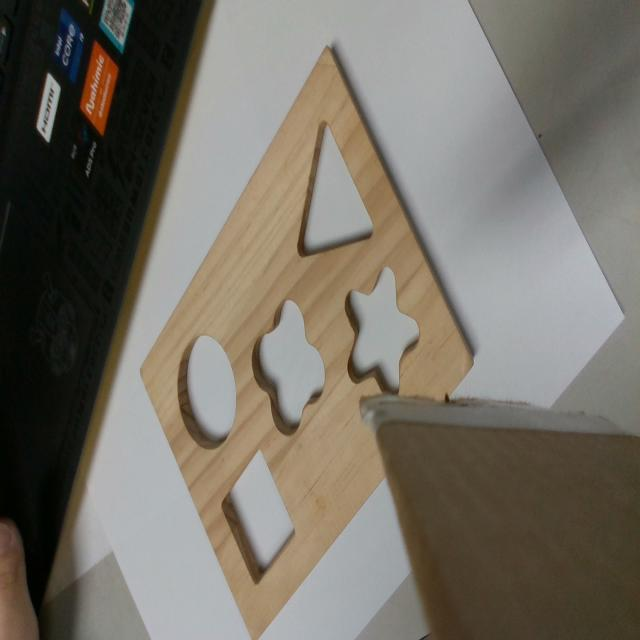circle: (179, 335, 236, 448)
flower: (253, 296, 324, 436)
square: (217, 447, 295, 586)
star: (345, 270, 418, 398)
triangle: (295, 120, 376, 259)
